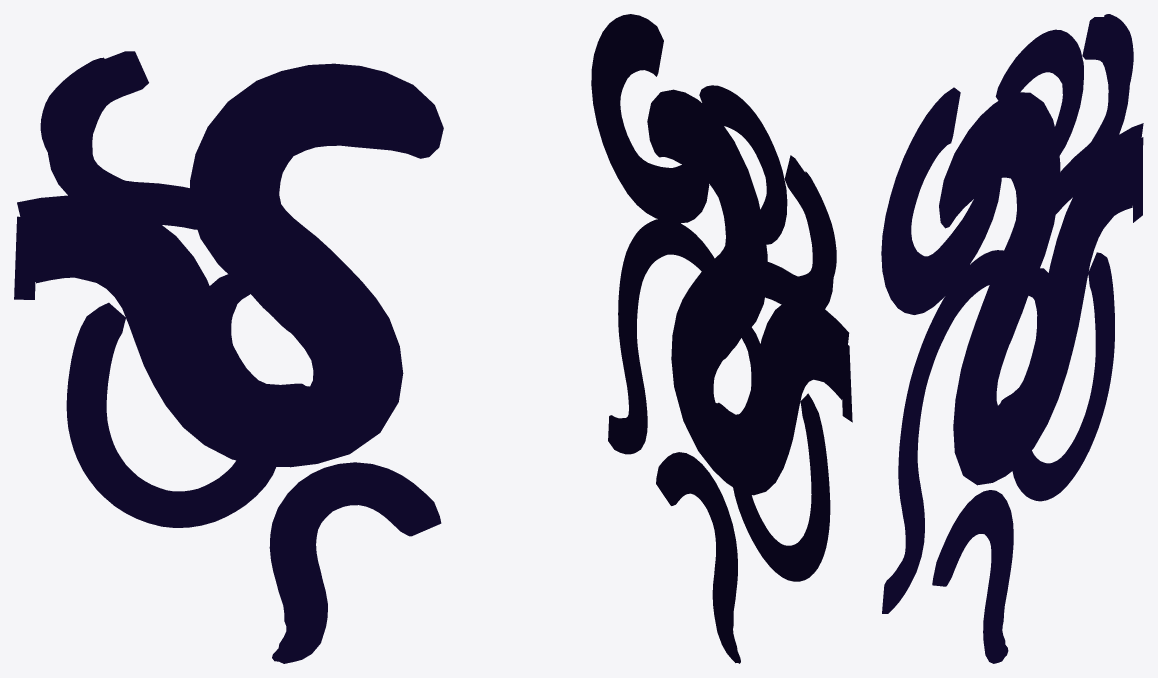
The picture shows the model from 3 angles, left to right: view 1: azimuth 30°, elevation 25°; view 2: azimuth 150°, elevation 25°; view 3: azimuth 270°, elevation 25°; orthographic projection. The views are drawn at different scales.
Parts seen in each view (by area): view 1: brush_DoubleTaperedMarker_g1_b0; view 2: brush_DoubleTaperedMarker_g1_b0; view 3: brush_DoubleTaperedMarker_g1_b0.
Part boxes in pixels (x1,y1,x2,y2): brush_DoubleTaperedMarker_g1_b0: [14, 51, 443, 663]; brush_DoubleTaperedMarker_g1_b0: [591, 14, 852, 663]; brush_DoubleTaperedMarker_g1_b0: [881, 14, 1143, 663].
Size of the model in its own units: 8.74 by 12.91 by 4.9.
